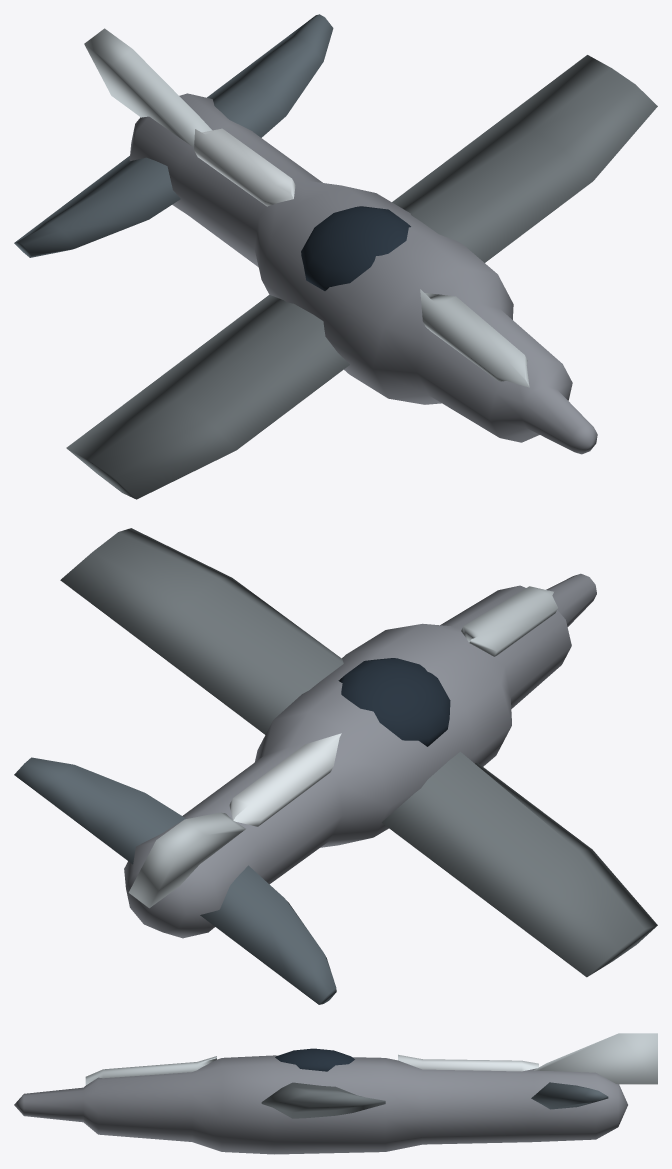
File: newshf-77.glb
The picture shows the model from 3 angles, top to bottom: view 1: azimuth 30°, elevation 25°; view 2: azimuth 150°, elevation 25°; view 3: azimuth 270°, elevation 25°; orthographic projection. The views are drawn at different scales.
Visible parts, largest first — view 1: newshf-77_f1; view 2: newshf-77_f1; view 3: newshf-77_f1.
Part boxes in pixels (box(x1,y1,x2,y2)): newshf-77_f1: box(14, 14, 657, 499); newshf-77_f1: box(14, 528, 657, 1004); newshf-77_f1: box(14, 1033, 657, 1154).
Bounding box in the file's own units: 1.44 × 0.7387 × 2.17.
